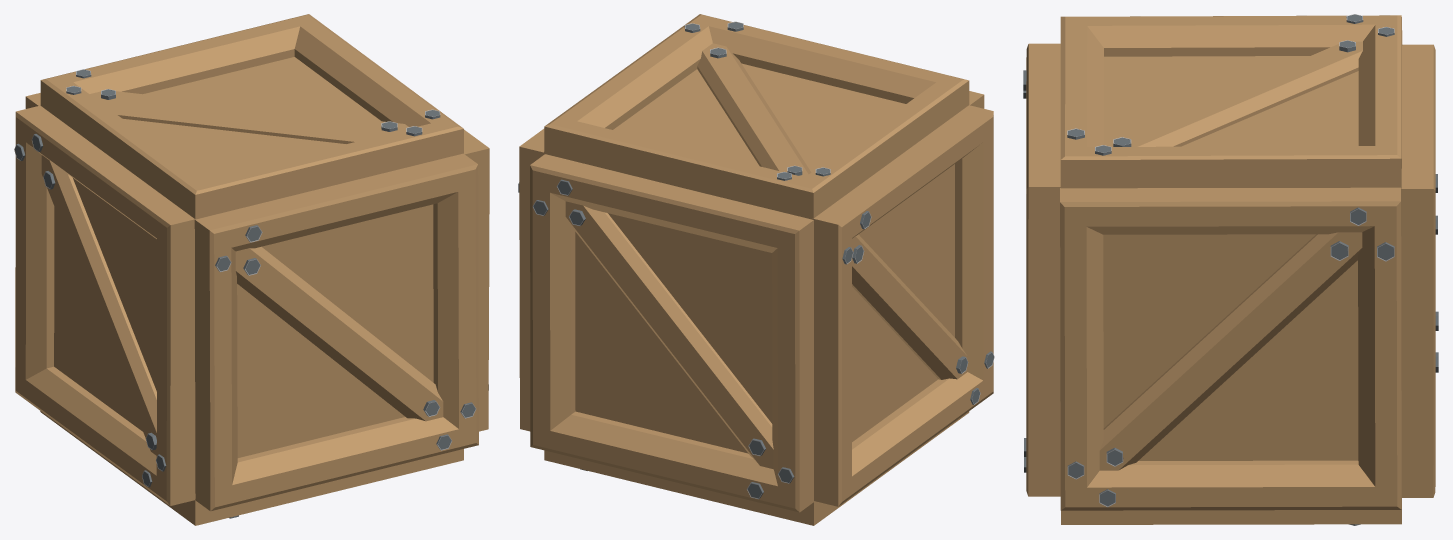
3 renders of one model, left to right at view 1: azimuth 30°, elevation 25°; view 2: azimuth 150°, elevation 25°; view 3: azimuth 270°, elevation 25°, orthographic. The views are drawn at different scales.
Visible parts, largest first — view 1: Cylinder.002; view 2: Cylinder.002; view 3: Cylinder.002.
Boxes of the visible parts, bbox=[...] form: Cylinder.002: bbox=[14, 14, 489, 525]; Cylinder.002: bbox=[518, 14, 994, 525]; Cylinder.002: bbox=[1023, 14, 1438, 525].
Bounding box in the file's own units: 167 × 167 × 167.
